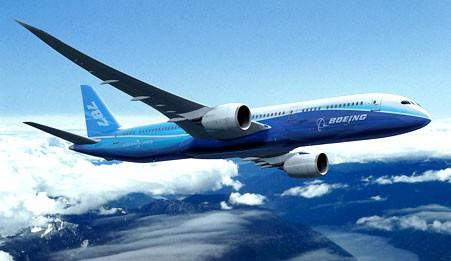airplane: (9, 15, 432, 182)
